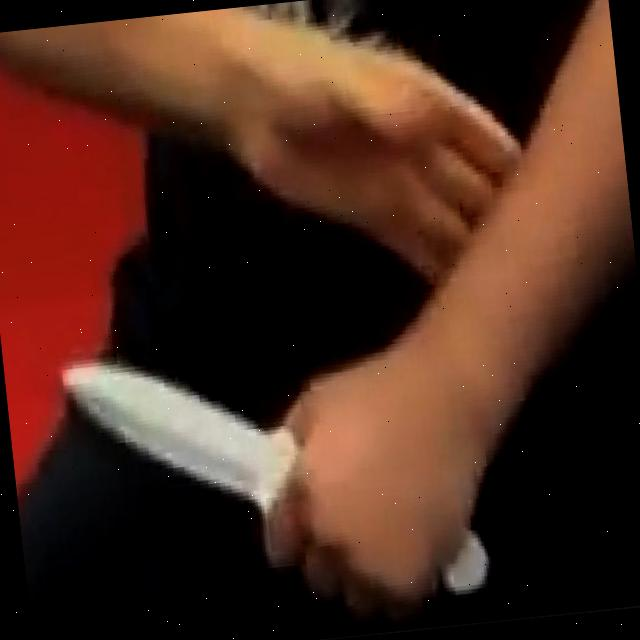suspicion: (13, 0, 640, 640), (54, 331, 288, 513), (440, 533, 496, 596)
